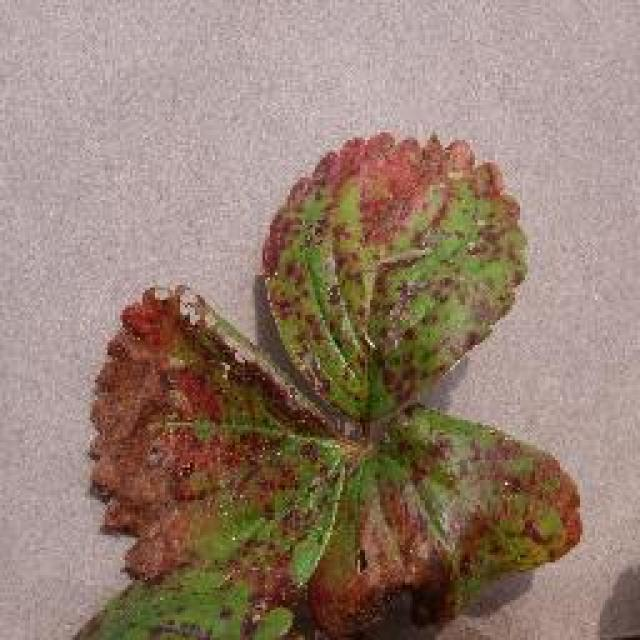Strawberry leaf scorch: (108, 210, 525, 600)
